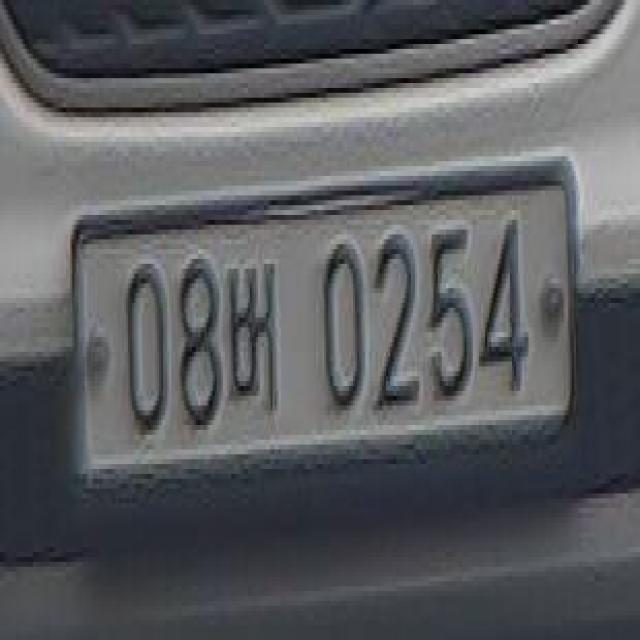illegal_plate: (78, 162, 574, 489)
